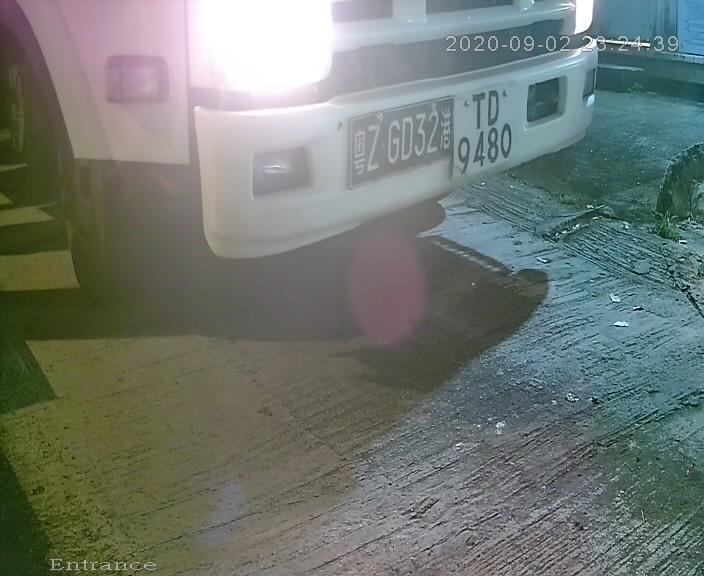License Plate: (428, 68, 541, 194)
